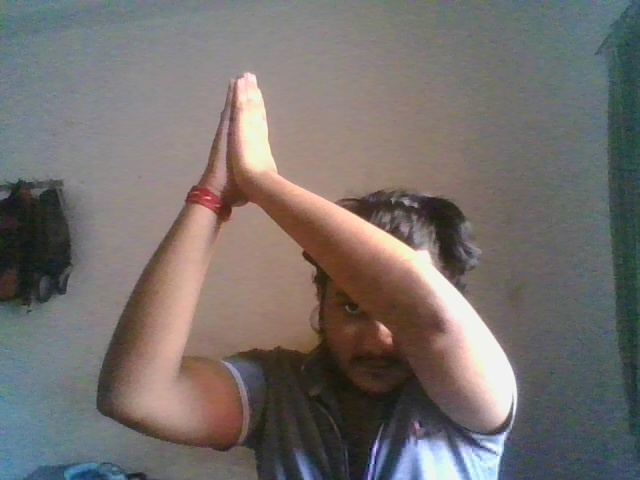ThankYou: (207, 70, 281, 203)
